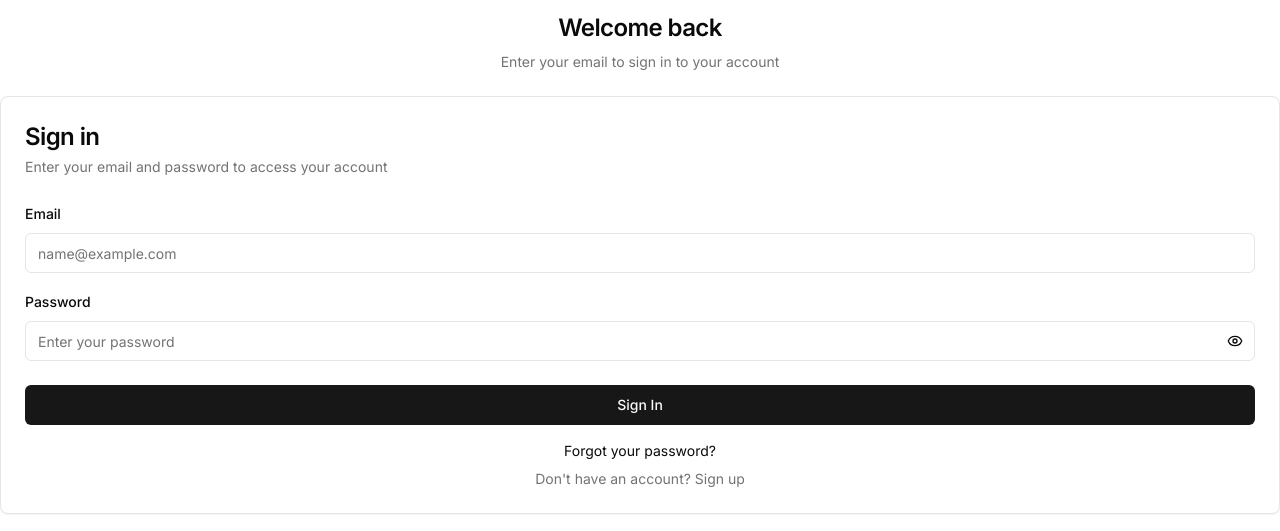
Login Page › disables form elements while loading
In the field labelled "Email": {"x": 640, "y": 253} [25,233,1255,273], type "test@example.com"
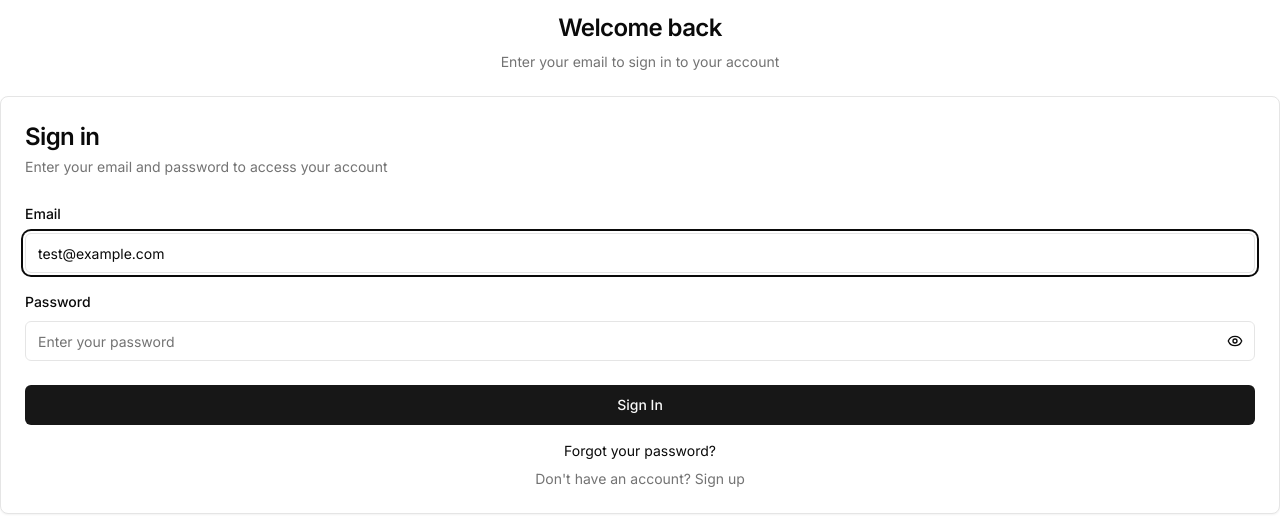
In the password field labelled "Password": {"x": 640, "y": 341} [25,321,1255,361], type "password123"
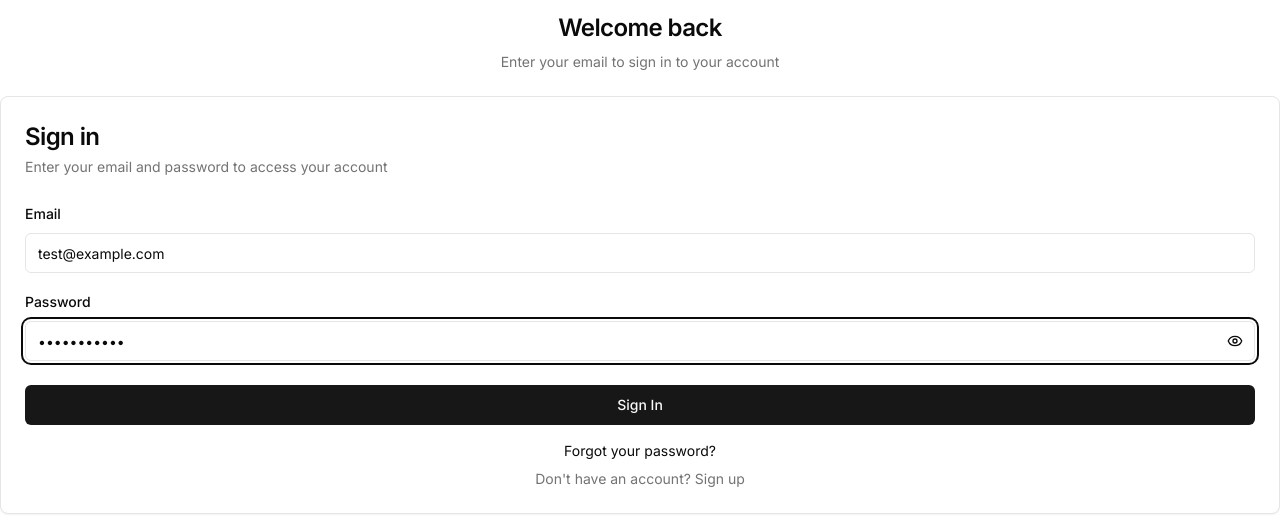
Click the button "Sign In": {"x": 640, "y": 405} [25,385,1255,425]
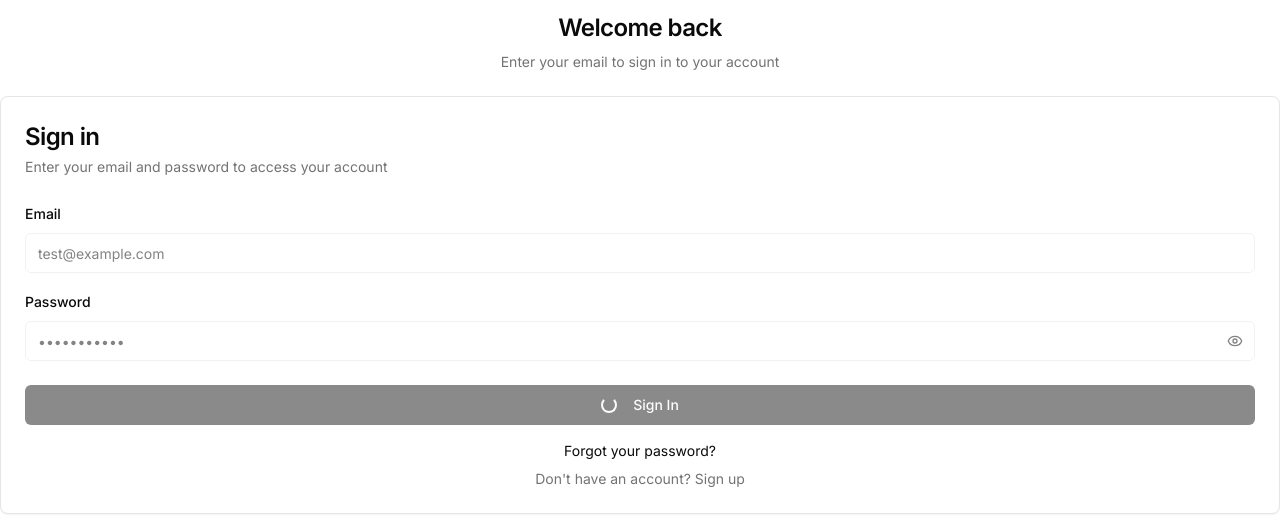
Expected: the field labelled "Email" is disabled, [25,233,1255,273]
Expected: the password field labelled "Password" is disabled, [25,321,1255,361]
Expected: the button "Sign In" is disabled, [25,385,1255,425]
